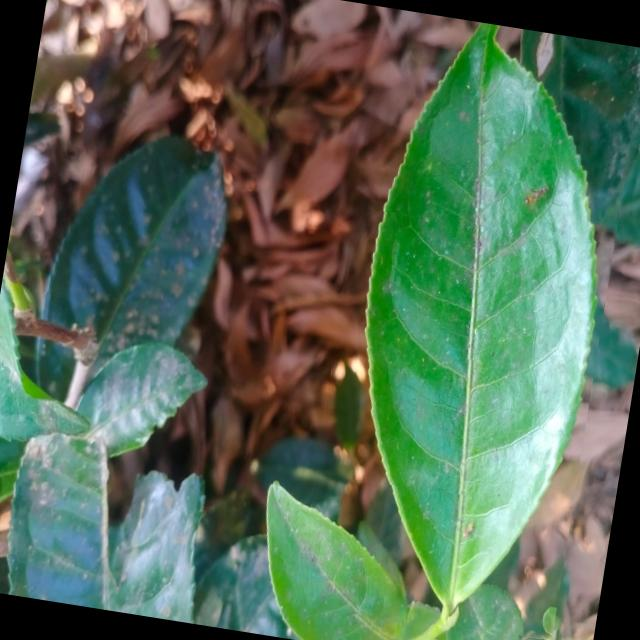Category D(7+ days, Not for Tea): (292, 6, 640, 640)
